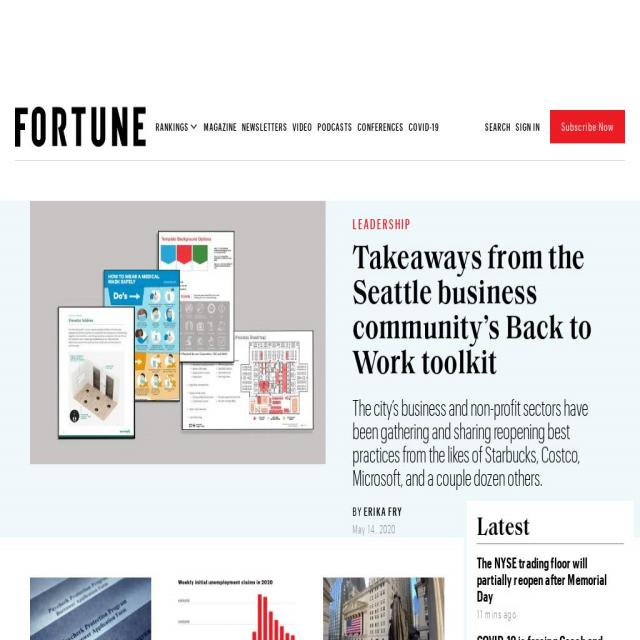login-option: (516, 120, 546, 140)
navigation-links: (151, 117, 447, 144)
search: (479, 114, 514, 137)
